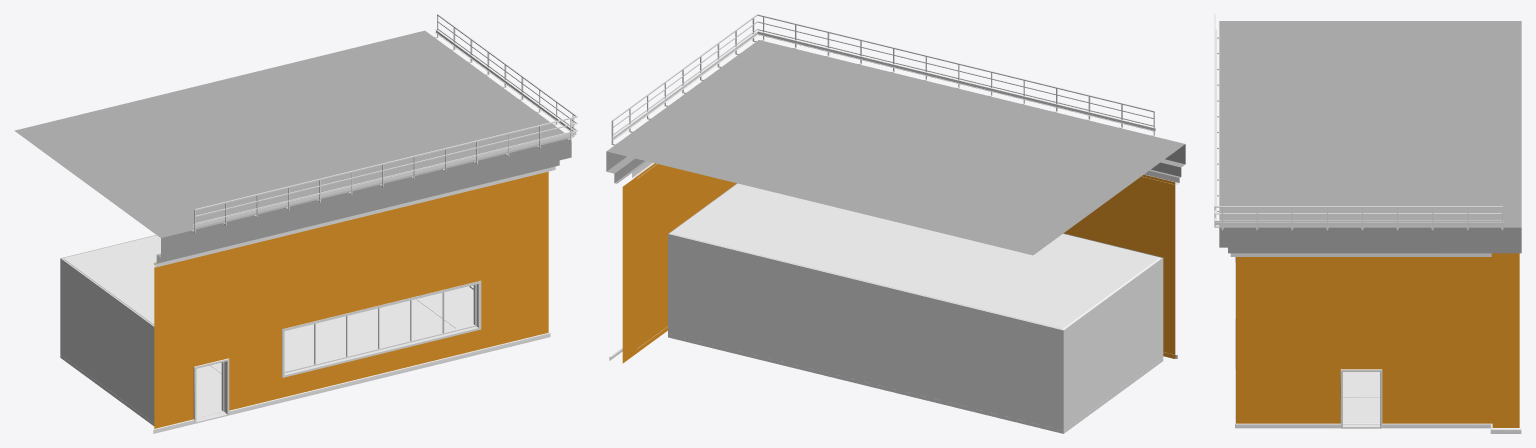
Rendered from SM_H_Building_Tide_HandlingRoom_01_ATLAS.fbx.
The picture shows the model from 3 angles, left to right: view 1: azimuth 30°, elevation 25°; view 2: azimuth 150°, elevation 25°; view 3: azimuth 270°, elevation 25°; orthographic projection. The views are drawn at different scales.
Parts seen in each view (by area): view 1: SM_H_Building_Tide_HandlingRoom_01_ATLAS; view 2: SM_H_Building_Tide_HandlingRoom_01_ATLAS; view 3: SM_H_Building_Tide_HandlingRoom_01_ATLAS.
Boxes of the visible parts, x1,y1,x2,y2 form: SM_H_Building_Tide_HandlingRoom_01_ATLAS: (14, 14, 577, 433); SM_H_Building_Tide_HandlingRoom_01_ATLAS: (606, 14, 1185, 433); SM_H_Building_Tide_HandlingRoom_01_ATLAS: (1214, 14, 1521, 433).
Bounding box in the file's own units: 1998 × 1243 × 1031.
